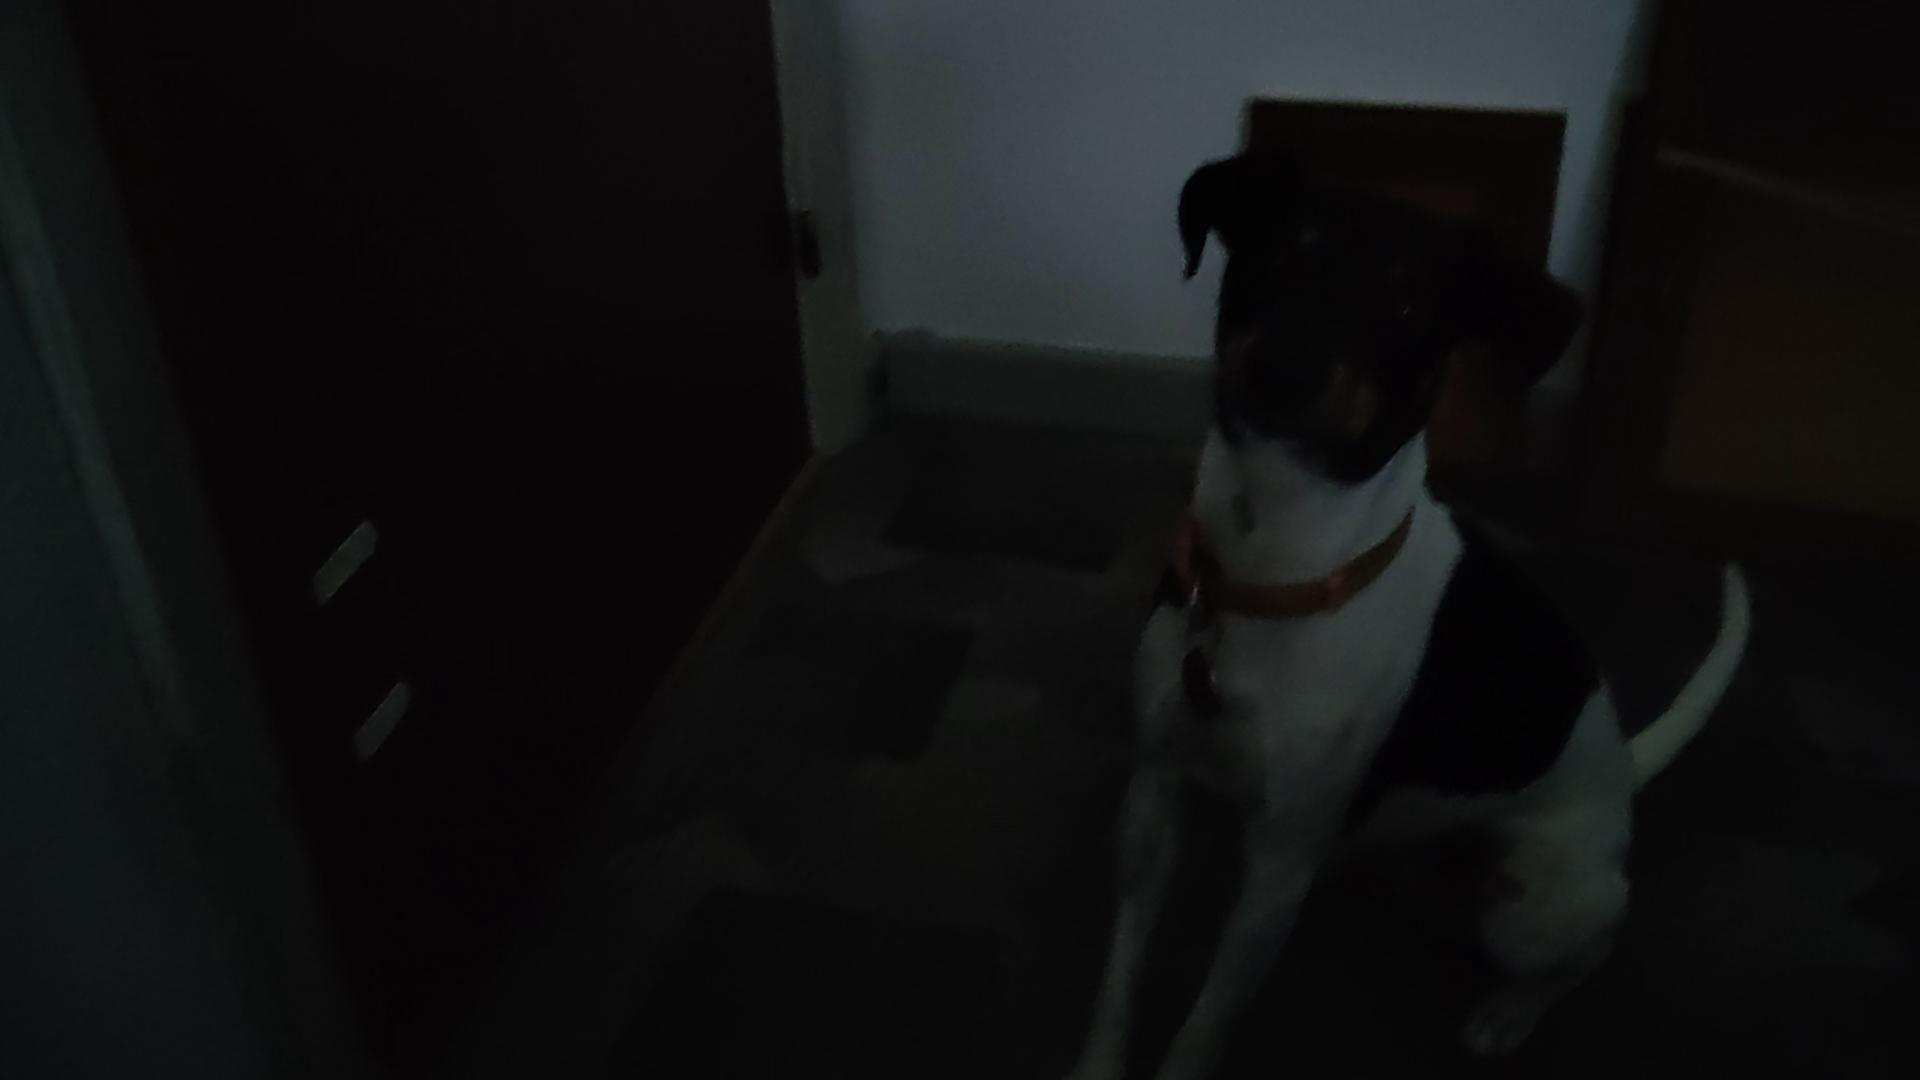Dog: (1069, 131, 1759, 1079)
